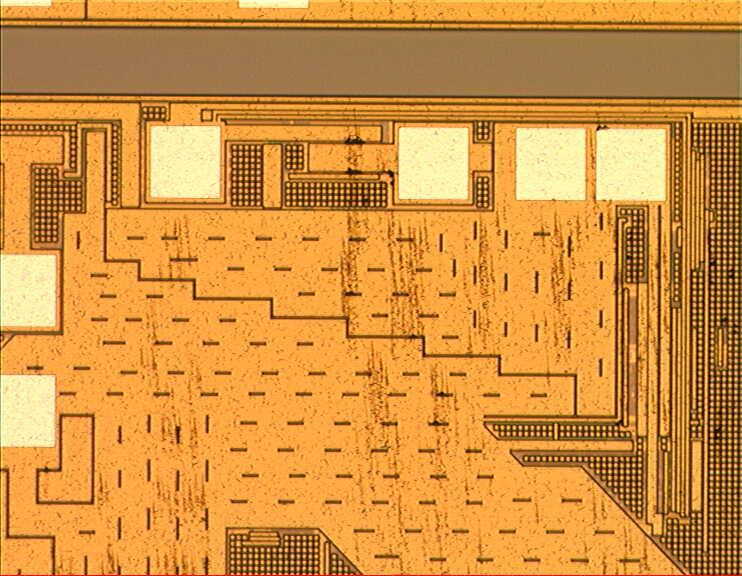SCRATCH: (28, 104, 687, 576)
